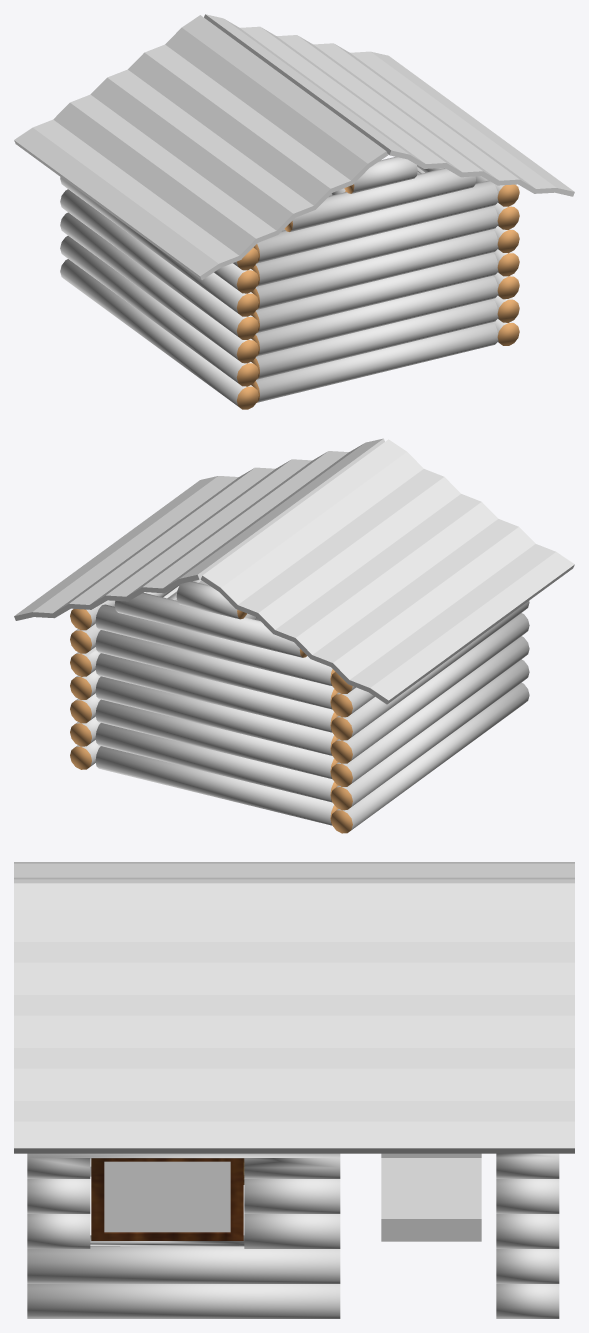
File: kulube.fbx
The picture shows the model from 3 angles, top to bottom: view 1: azimuth 30°, elevation 25°; view 2: azimuth 150°, elevation 25°; view 3: azimuth 270°, elevation 25°; orthographic projection. The views are drawn at different scales.
Parts seen in each view (by area): view 1: kulube; view 2: kulube; view 3: kulube.
Boxes of the visible parts, x1,y1,x2,y2 form: kulube: [14, 14, 574, 409]; kulube: [14, 438, 574, 833]; kulube: [14, 862, 574, 1318].
Bounding box in the file's own units: 1048 × 633 × 902.
